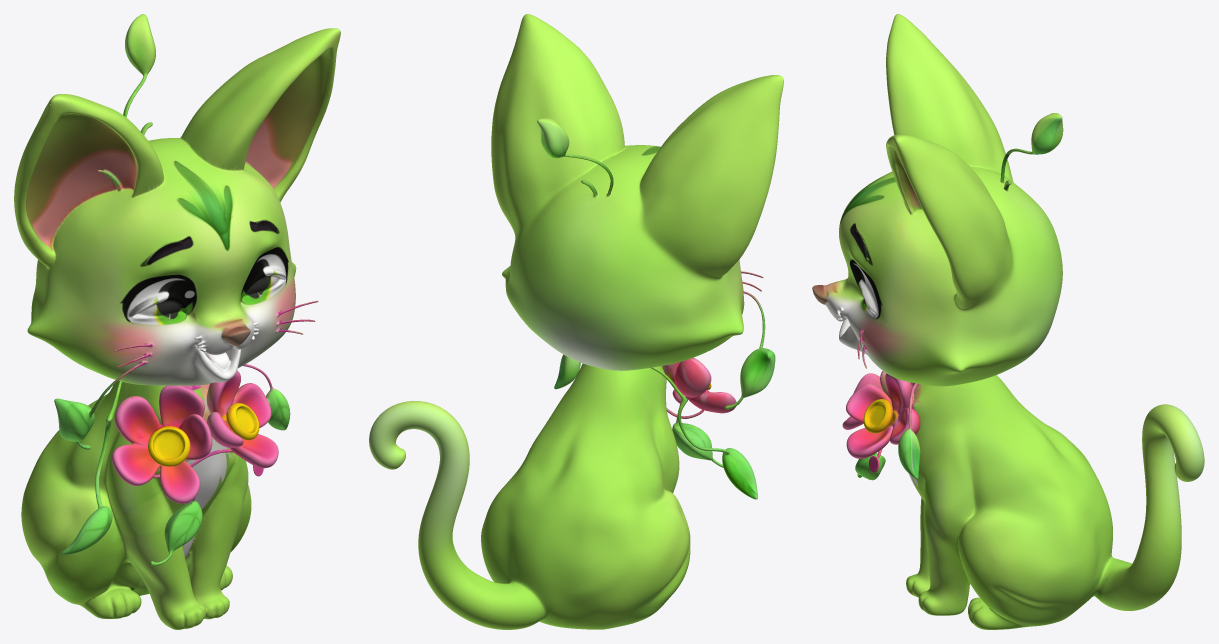
Rendered from leaf_cat.glb.
3 views of the same model, side by side, from view 1: azimuth 30°, elevation 25°; view 2: azimuth 150°, elevation 25°; view 3: azimuth 270°, elevation 25° (orthographic). The views are drawn at different scales.
Size of the model in its own units: 1.06 by 1.9 by 1.3.
1 material, 1 textured.
